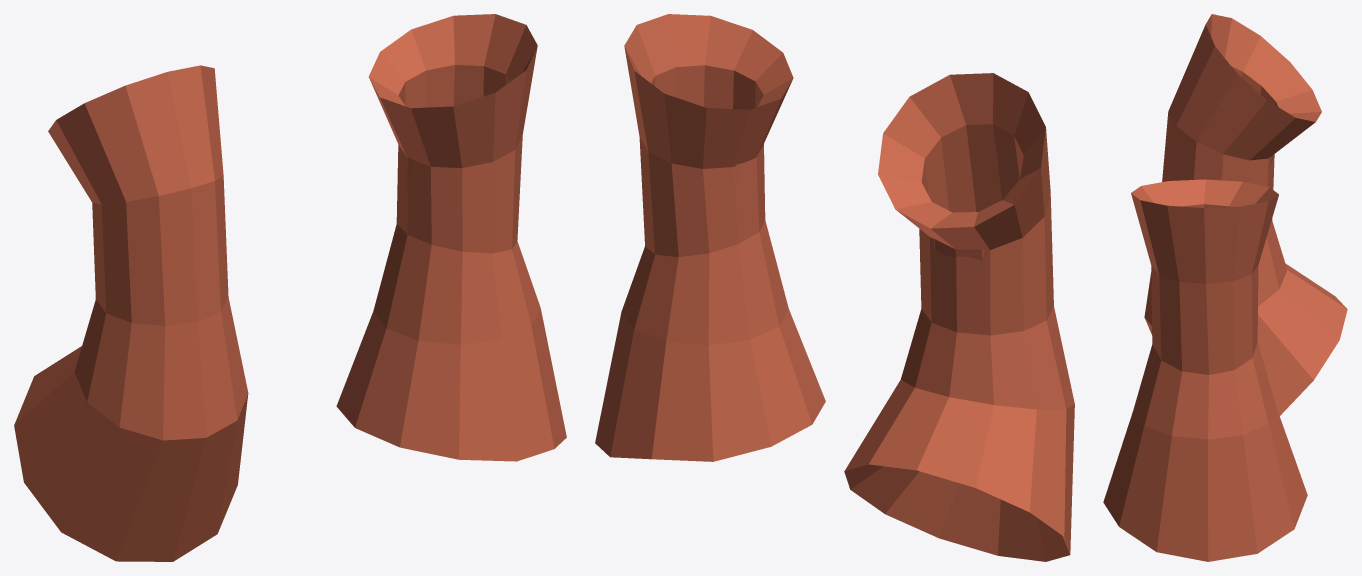
Rendered from CoralSet_06.fbx.
3 views of the same model, side by side, from view 1: azimuth 30°, elevation 25°; view 2: azimuth 150°, elevation 25°; view 3: azimuth 270°, elevation 25° (orthographic). The views are drawn at different scales.
Parts seen in each view (by area): view 1: Coral_F_02, Coral_F_01; view 2: Coral_F_02, Coral_F_01; view 3: Coral_F_01, Coral_F_02.
Part boxes in pixels (bbox=[...]): Coral_F_02: bbox=[14, 65, 248, 561]; Coral_F_01: bbox=[336, 14, 566, 461]; Coral_F_02: bbox=[844, 73, 1074, 561]; Coral_F_01: bbox=[595, 14, 825, 461]; Coral_F_01: bbox=[1103, 179, 1307, 561]; Coral_F_02: bbox=[1144, 14, 1347, 415].
Bounding box in the file's own units: 4158 × 3951 × 2097.
